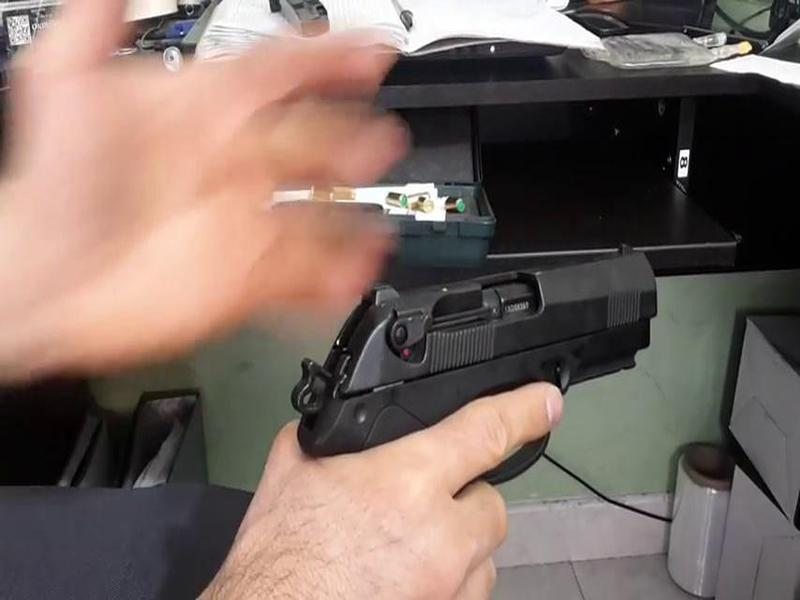Pistola: (289, 230, 673, 486)
